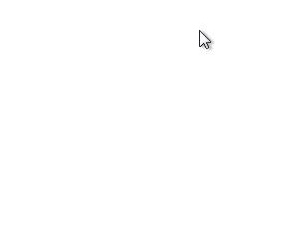cursor: (197, 28, 212, 50)
